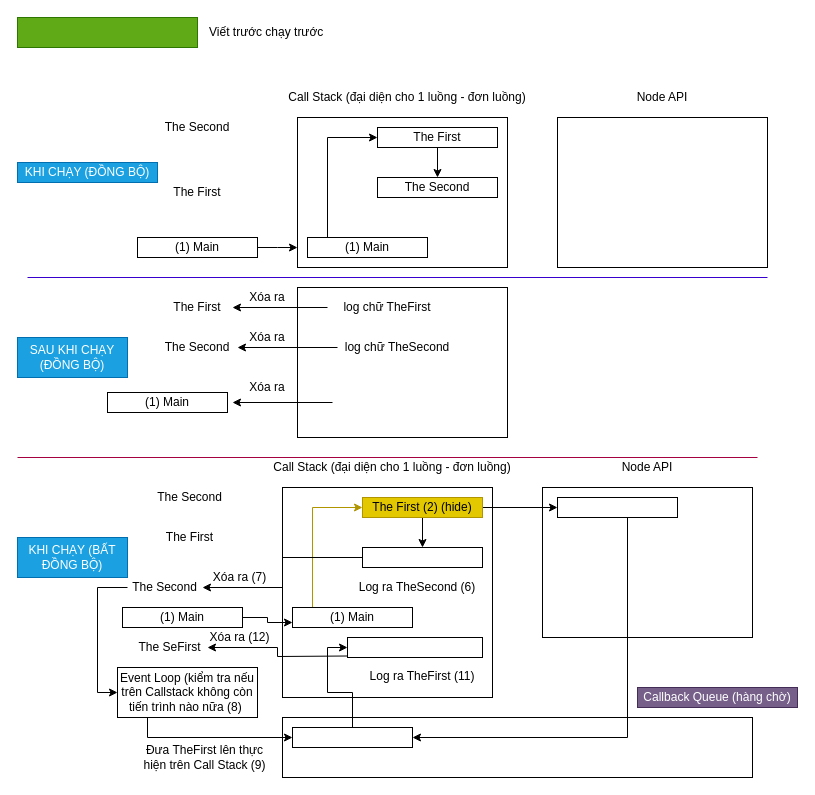
Image size: 815x795. Some labels were removed from this diagram. Each missing label, with the centre of its shape:
"The First (3)" goes at [617,507].
"The First (4)" goes at [352,737].
"The Second (5) Show" goes at [422,557].
"The TheFirst (10) Show" goes at [414,647].
"ĐỒNG BỘ : ASYNC CHORNOS" goes at [107,32].
